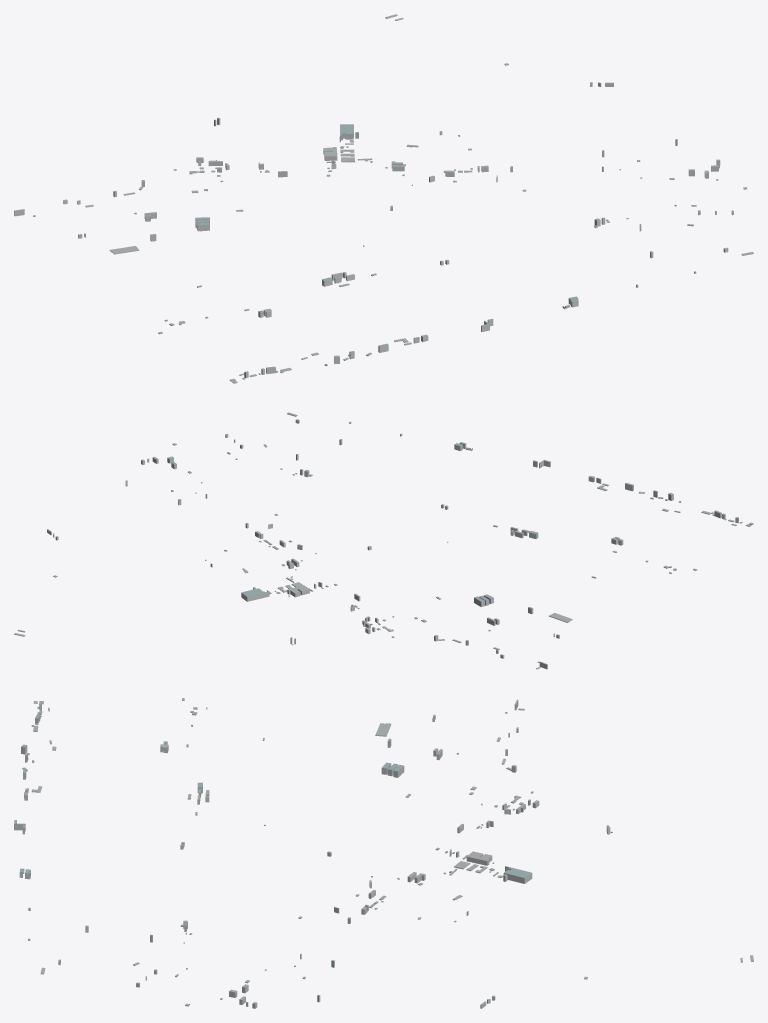
Rendered from far.glb.
3 views of the same model, one above another, from view 1: azimuth 30°, elevation 25°; view 2: azimuth 150°, elevation 25°; view 3: azimuth 270°, elevation 25° (orthographic). The views are drawn at different scales.
Bounding box in the file's own units: 2057 × 22.1 × 2076.
